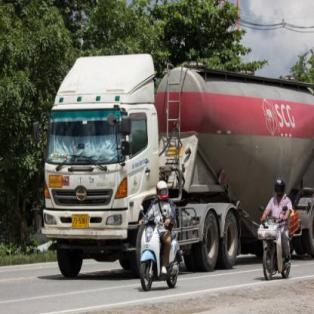Motocicleta: (136, 212, 186, 288), (251, 204, 296, 281)
